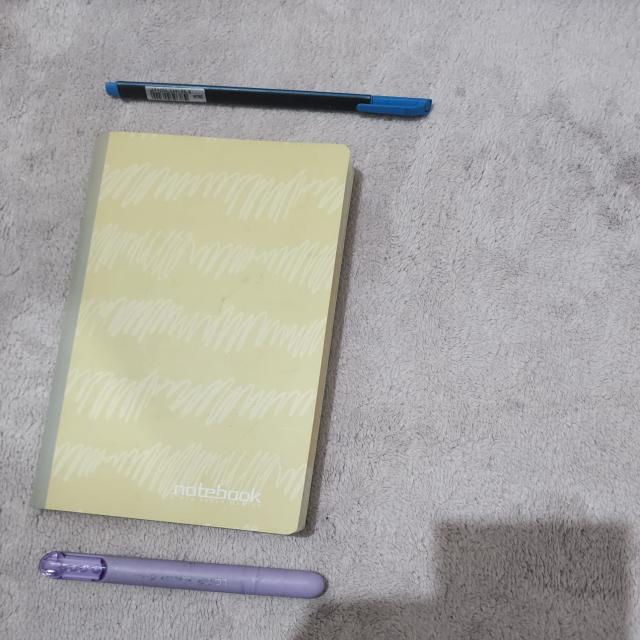defter: (29, 134, 356, 537)
kalem1: (105, 81, 431, 116)
kalem2: (37, 552, 327, 599)
